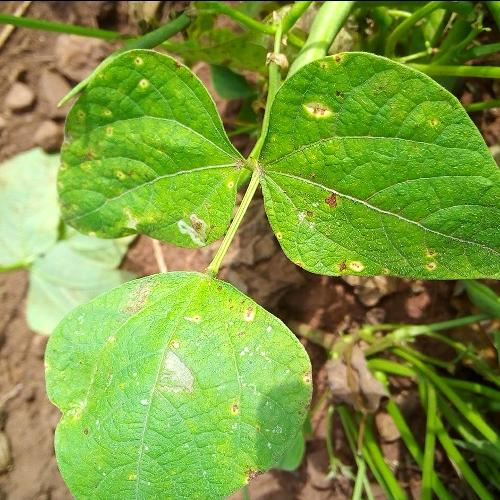embun tepung: (288, 35, 448, 308), (76, 302, 288, 471), (78, 42, 228, 266)
